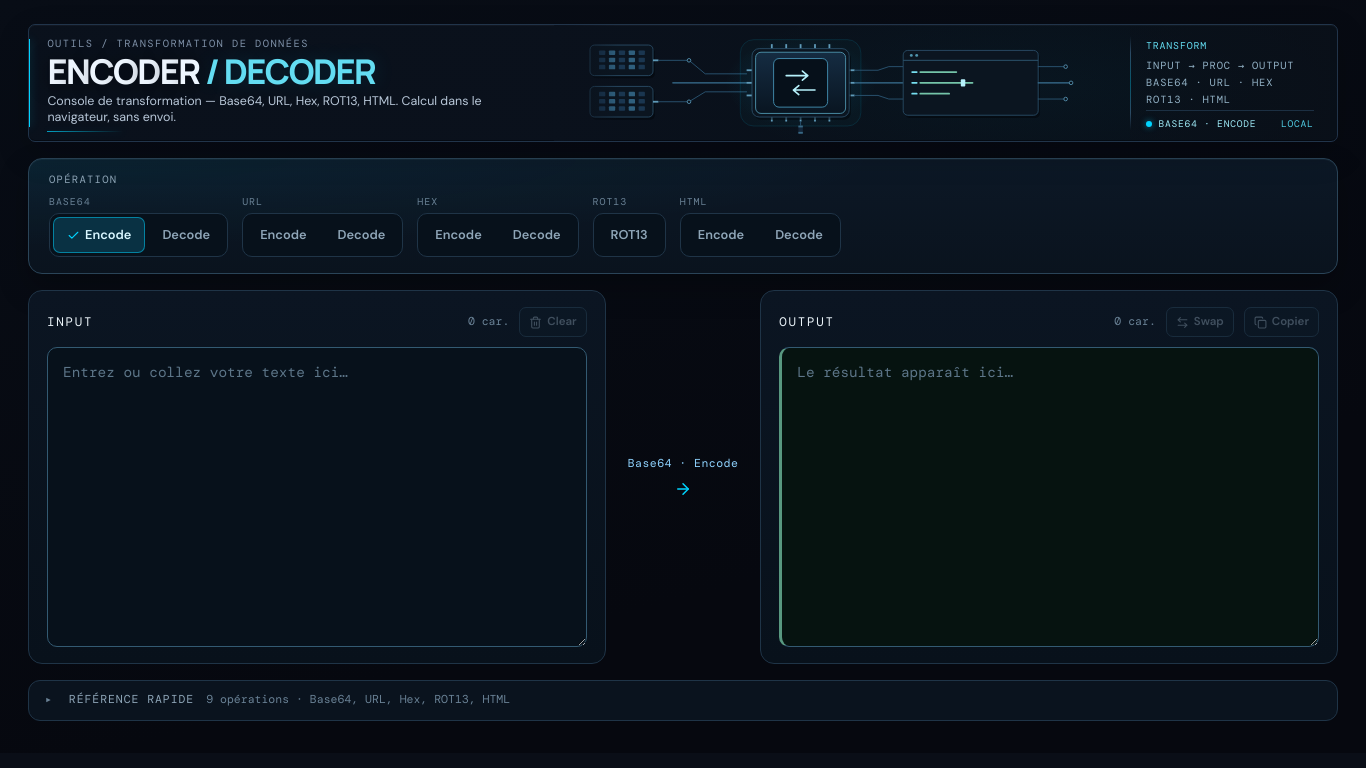
Test: EncoderDecoder page › recomputes on operation changes without stale errors or changing the input
Step 1. Type "%" into the text box named "Texte à transformer" → (317,497), box [47,347,587,647]
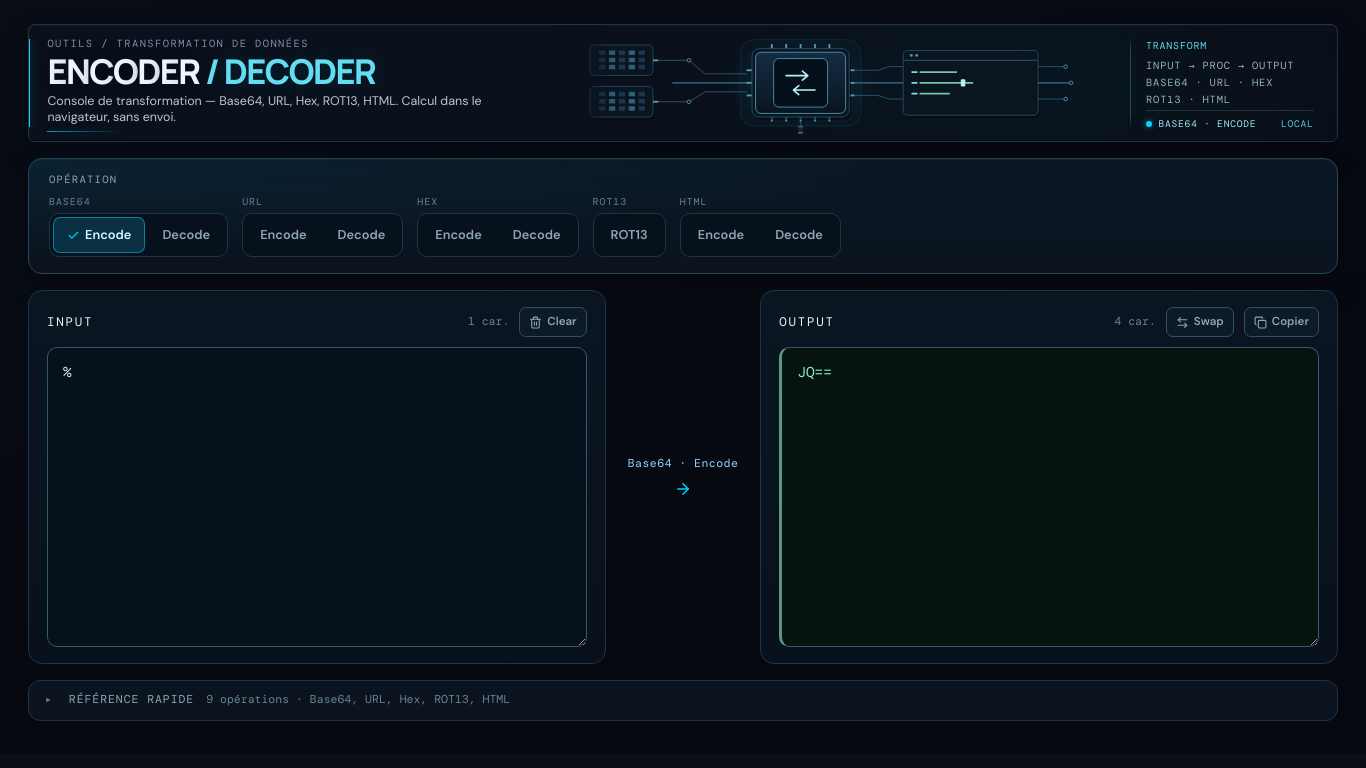
expect the 2nd text box named "résultat" holds "JQ==": met, box [779,347,1319,647]
Step 2. Click the button with aria-label "URL Decode" → (361,235), box [324,217,399,253]
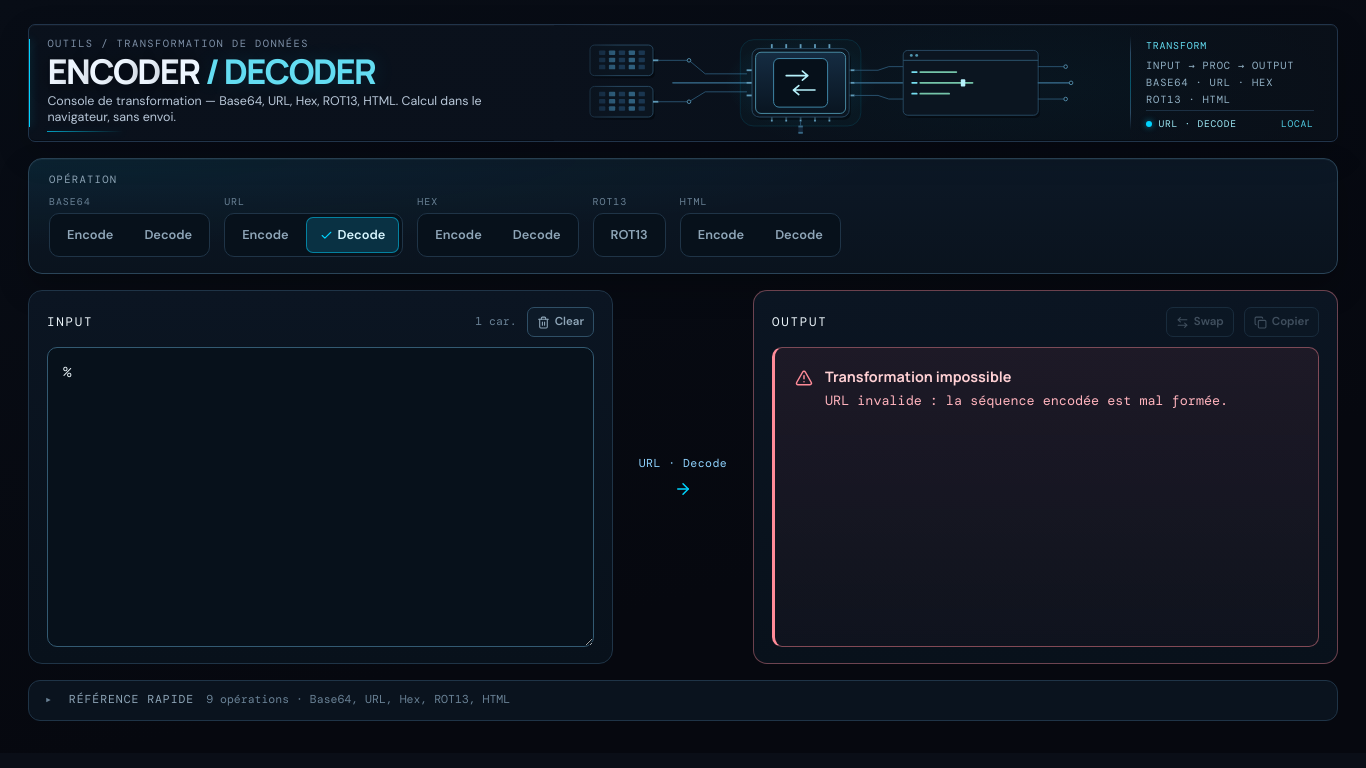
expect the message shows "URL invalide": met, box [825,392,1228,409]
Step 3. Click the button with aria-label "URL Encode" → (265,235), box [228,217,303,253]
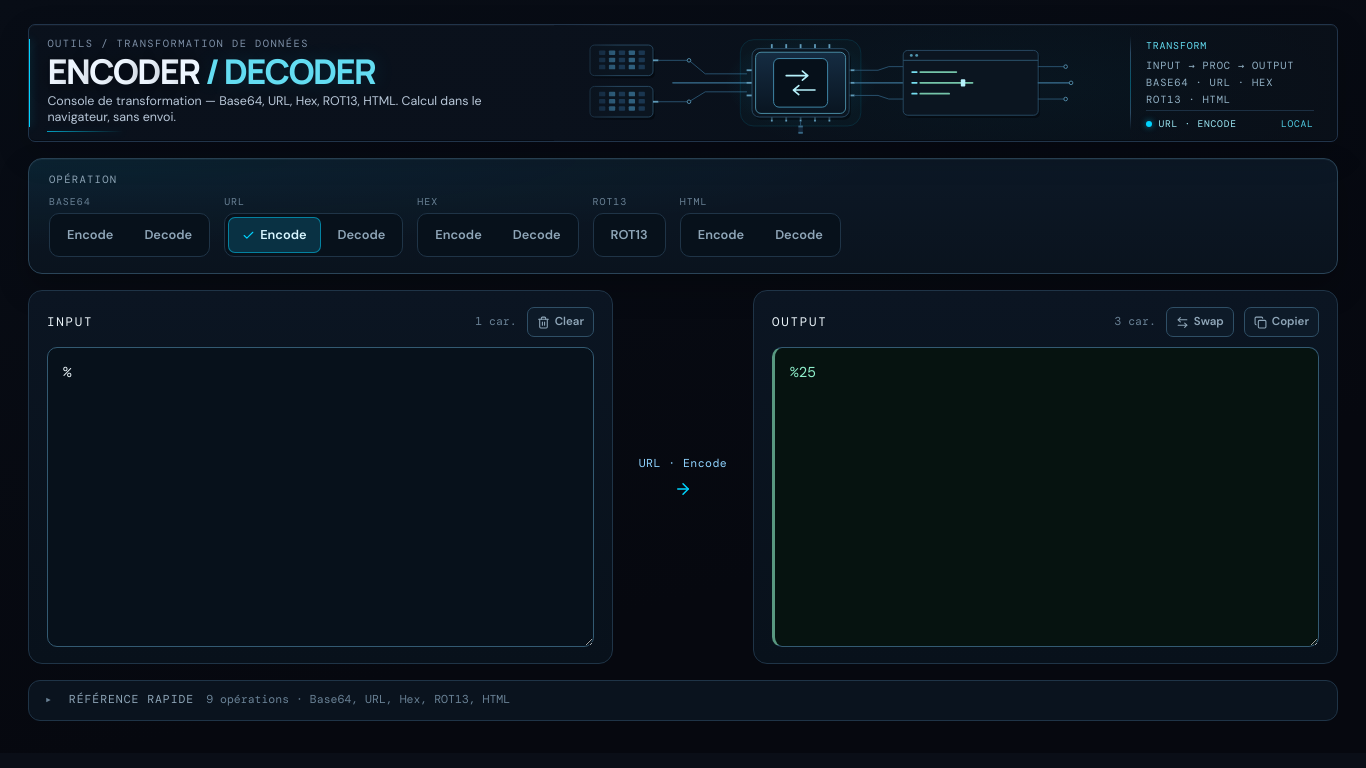
expect the message "Transformation impossible URL invalide : la séquence encodée est mal formée." is gone: met
expect the 2nd text box named "résultat" holds "%25": met, box [772,347,1319,647]
